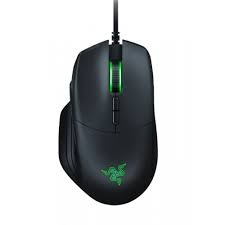mouse: (54, 34, 162, 203)
